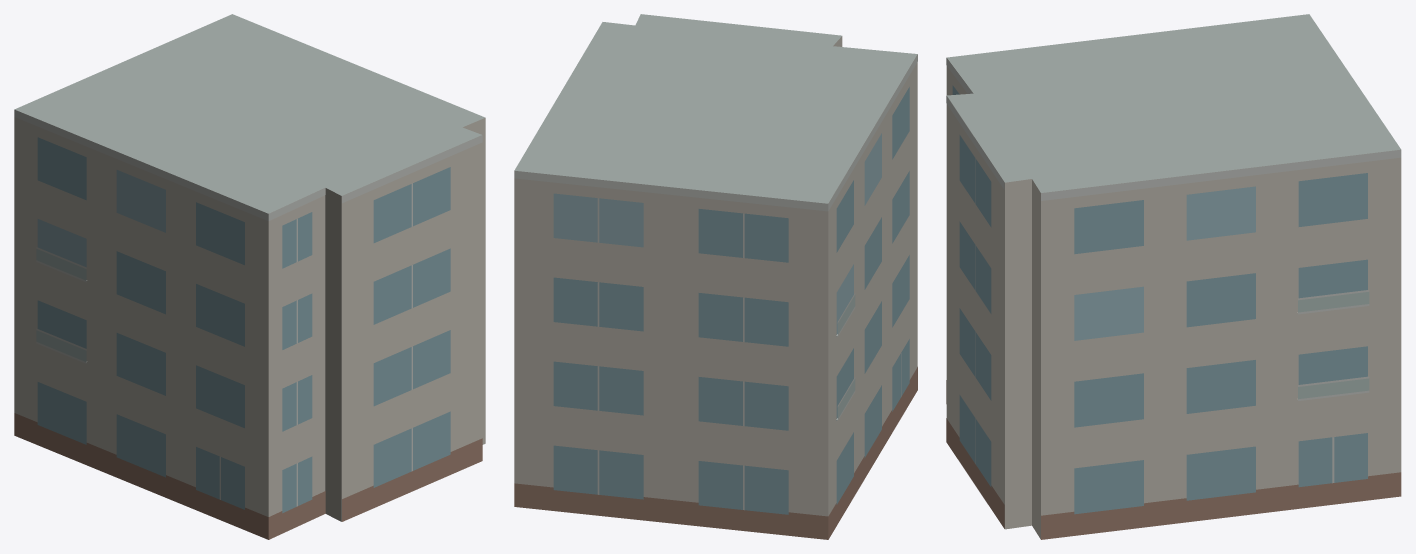
File: survey-upis-32569069.glb
The picture shows the model from 3 angles, left to right: view 1: azimuth 30°, elevation 25°; view 2: azimuth 150°, elevation 25°; view 3: azimuth 270°, elevation 25°; orthographic projection. The views are drawn at different scales.
Visible parts, largest first — view 1: survey-upis-32569069.tmp; view 2: survey-upis-32569069.tmp; view 3: survey-upis-32569069.tmp.
Boxes of the visible parts, x1,y1,x2,y2 form: survey-upis-32569069.tmp: (14, 14, 485, 539); survey-upis-32569069.tmp: (514, 14, 917, 539); survey-upis-32569069.tmp: (946, 14, 1401, 539).
Size of the model in its own units: 11.81 by 10.65 by 12.67.
